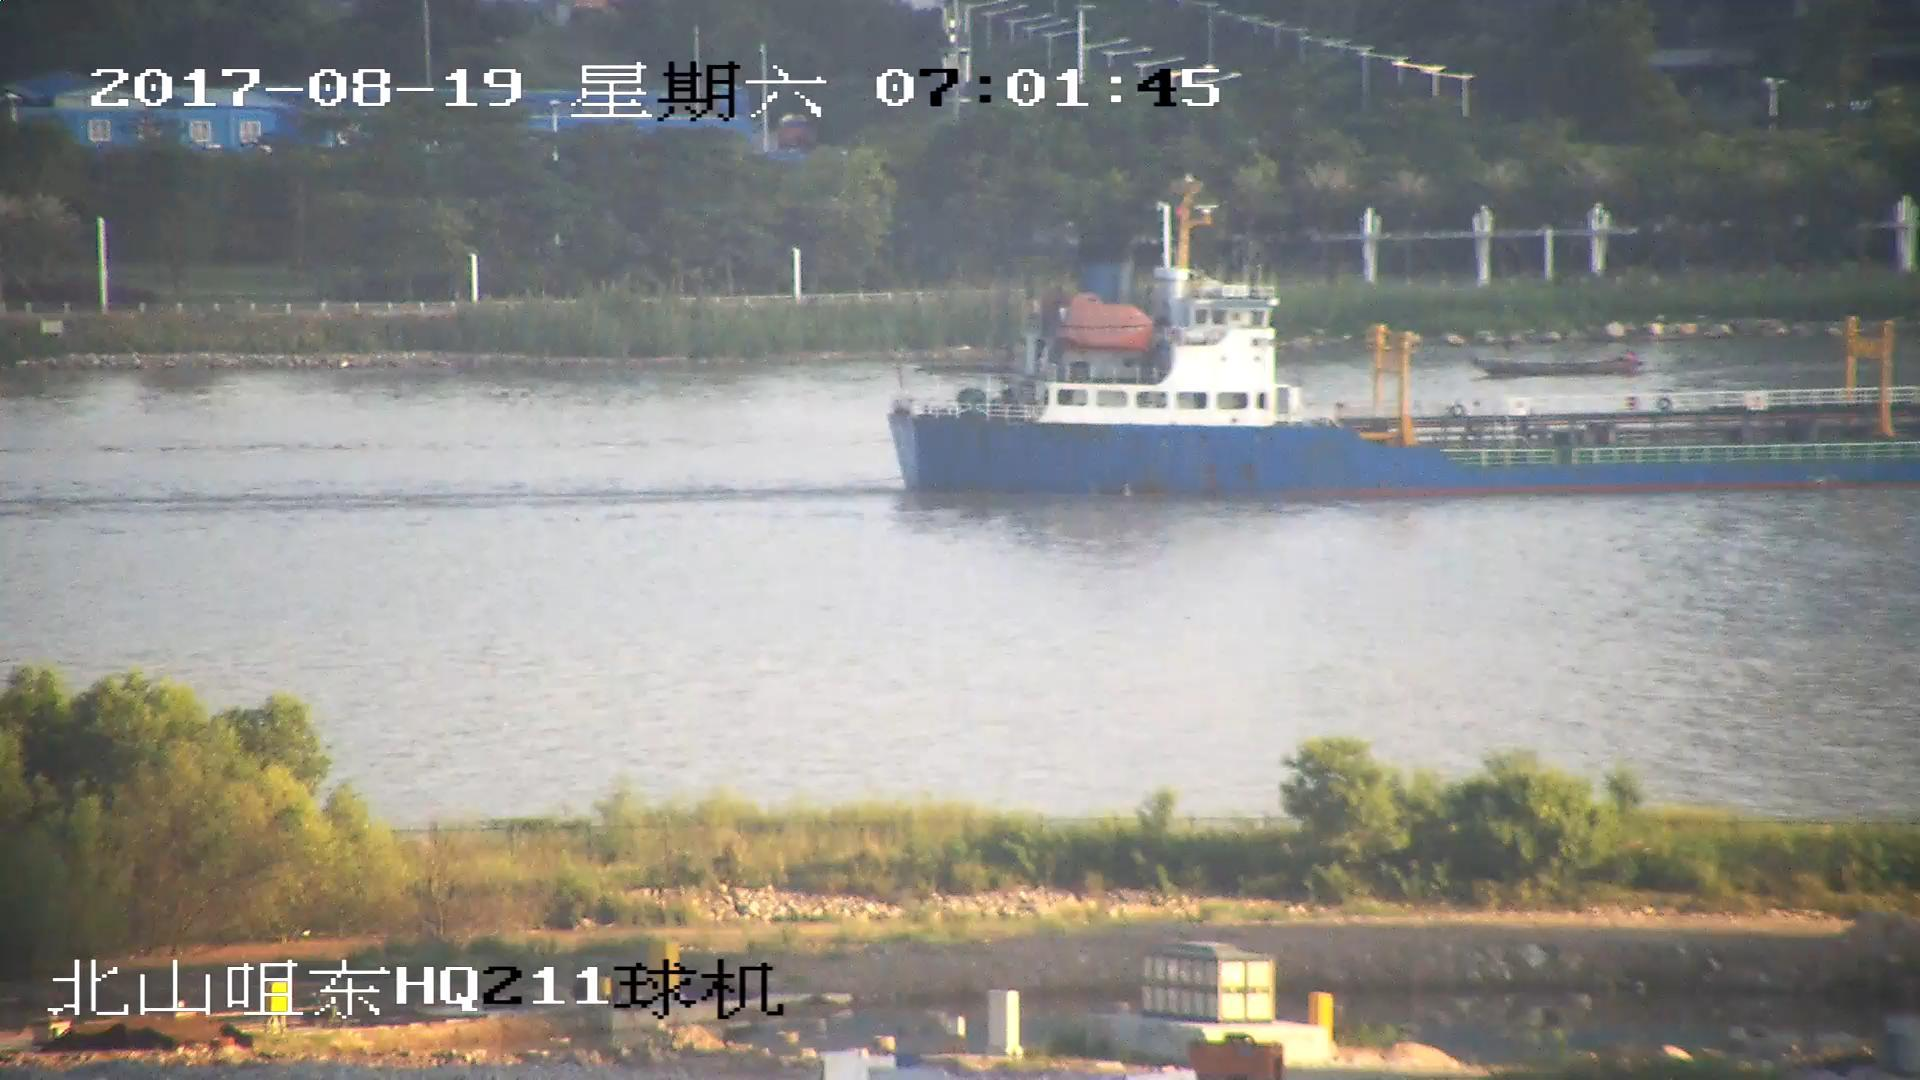Ship: (891, 214, 1920, 491)
